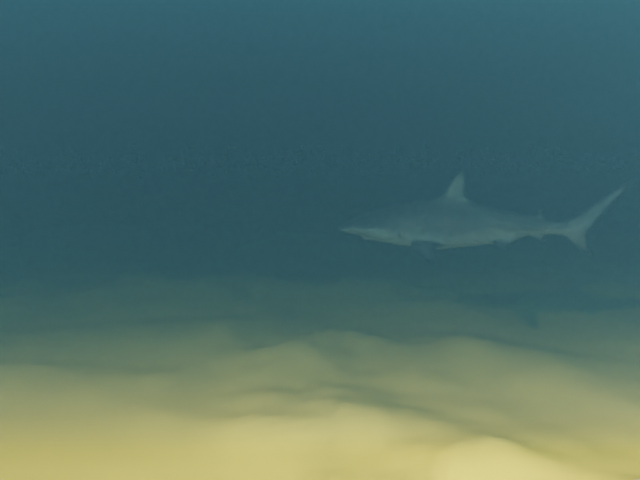Carribean Shark.001: (338, 169, 635, 265)
